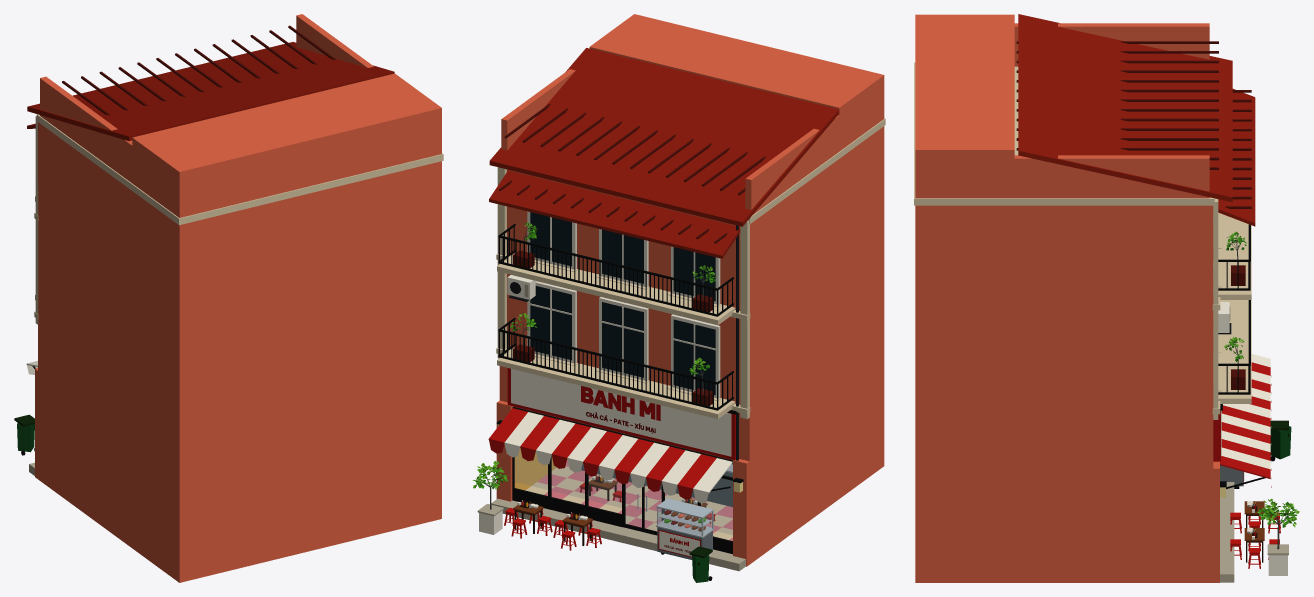
Rendered from PV_StreetShop02.fbx.
The picture shows the model from 3 angles, left to right: view 1: azimuth 30°, elevation 25°; view 2: azimuth 150°, elevation 25°; view 3: azimuth 270°, elevation 25°; orthographic projection. The views are drawn at different scales.
Visible parts, largest first — view 1: PV_StreetShop02_LOD0; view 2: PV_StreetShop02_LOD0; view 3: PV_StreetShop02_LOD0.
Boxes of the visible parts, x1,y1,x2,y2 form: PV_StreetShop02_LOD0: [14, 14, 443, 582]; PV_StreetShop02_LOD0: [472, 14, 885, 582]; PV_StreetShop02_LOD0: [914, 14, 1299, 582].
Size of what is drawn, in the model's own units: 8.46 by 12.5 by 10.09.
2 materials, 1 textured.
